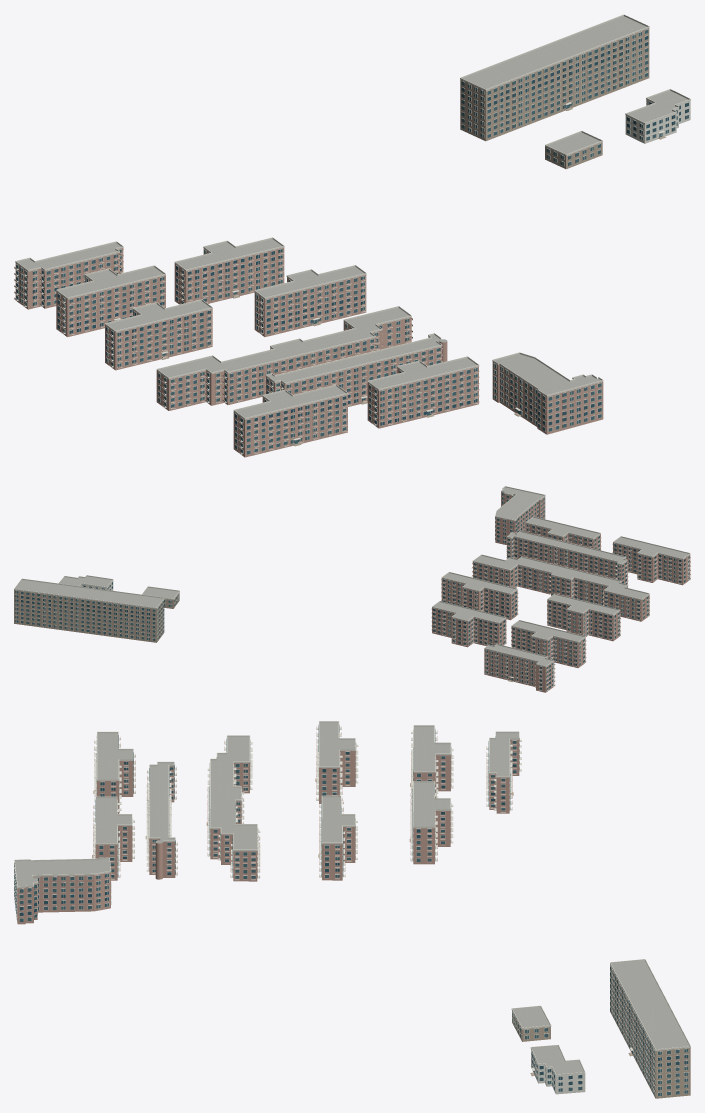
The model's file is chunk-p0-n2.glb.
3 renders of one model, top to bottom at view 1: azimuth 30°, elevation 25°; view 2: azimuth 150°, elevation 25°; view 3: azimuth 270°, elevation 25°, orthographic. The views are drawn at different scales.
Parts seen in each view (by area): view 1: chunk-p0-n2; view 2: chunk-p0-n2; view 3: chunk-p0-n2.
Boxes of the visible parts, bbox=[...] form: chunk-p0-n2: bbox=[14, 14, 690, 457]; chunk-p0-n2: bbox=[14, 486, 690, 692]; chunk-p0-n2: bbox=[14, 721, 690, 1098].
Size of the model in its own units: 399 by 29.23 by 345.
Materials: 6 (2 with a texture image).
